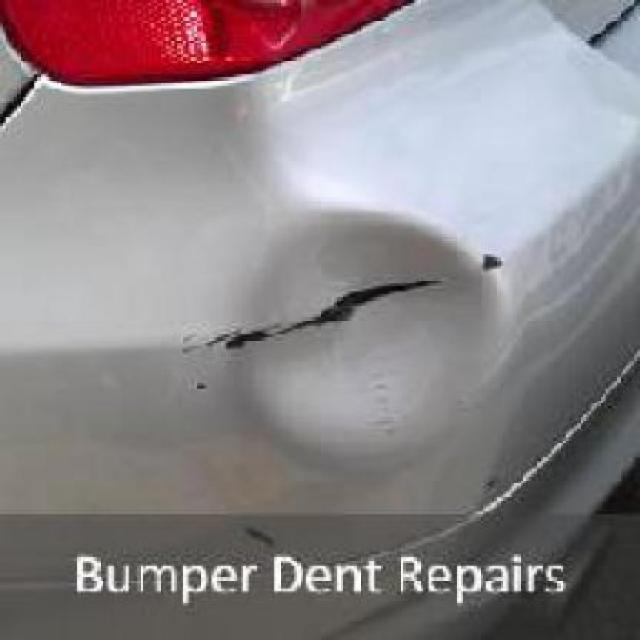dent-or-scratch: (208, 182, 536, 470)
